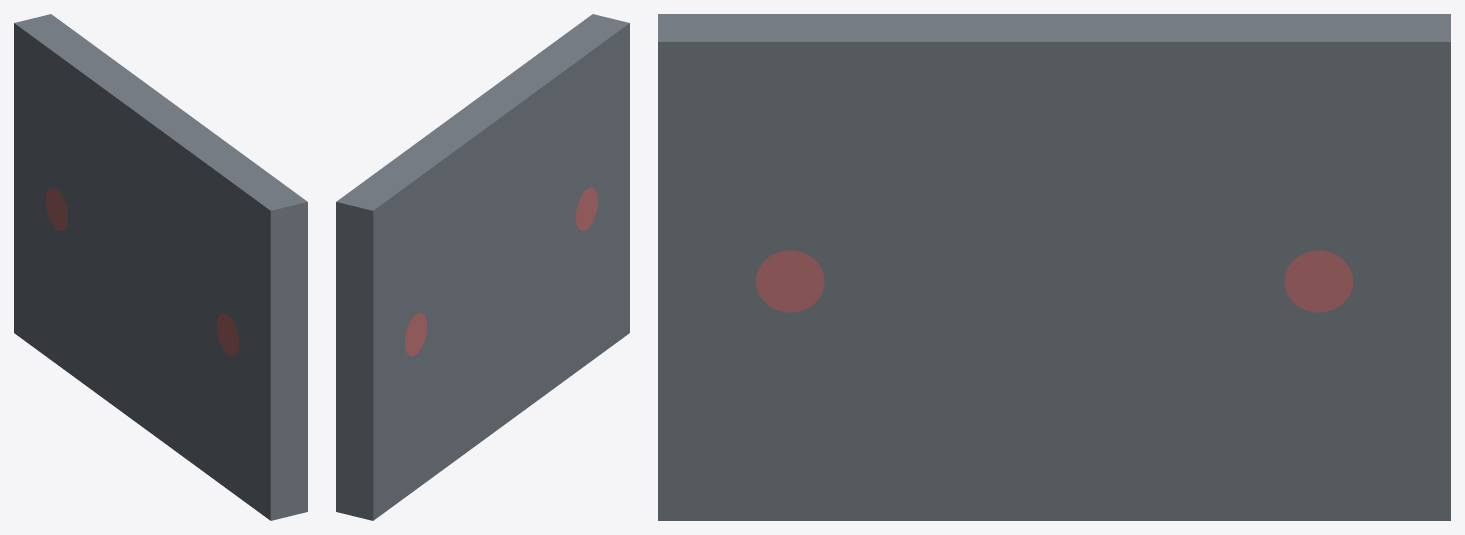
Rendered from step_02.glb.
The picture shows the model from 3 angles, left to right: view 1: azimuth 30°, elevation 25°; view 2: azimuth 150°, elevation 25°; view 3: azimuth 270°, elevation 25°; orthographic projection. The views are drawn at different scales.
Visible parts, largest first — view 1: part__anchor plate, removed__anchor plate; view 2: part__anchor plate, removed__anchor plate; view 3: part__anchor plate, removed__anchor plate.
Boxes of the visible parts, x1,y1,x2,y2 form: part__anchor plate: [14, 14, 307, 520]; removed__anchor plate: [45, 187, 238, 356]; part__anchor plate: [336, 14, 629, 520]; removed__anchor plate: [405, 187, 598, 356]; part__anchor plate: [658, 14, 1450, 520]; removed__anchor plate: [756, 250, 1352, 312].
Bounding box in the file's own units: 25 × 200 × 300.
